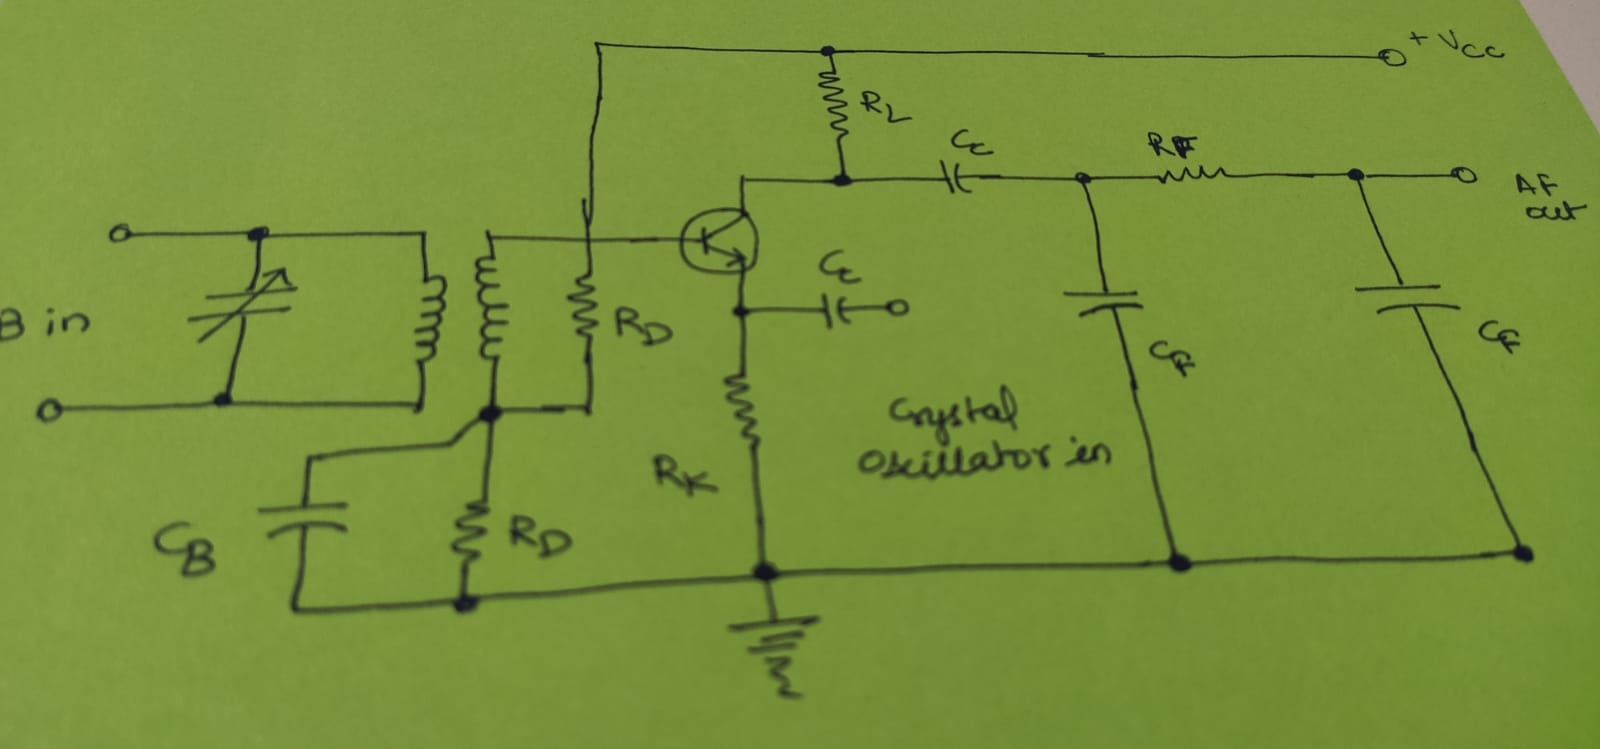capacitor.unpolarized: (191, 272, 299, 343), (1358, 274, 1458, 318), (257, 500, 352, 539), (1064, 284, 1138, 319), (813, 288, 860, 341), (936, 159, 965, 192)
gnd: (724, 613, 826, 698)
junction: (740, 555, 797, 597), (444, 584, 491, 620), (1158, 543, 1207, 577), (202, 382, 247, 417), (470, 397, 514, 431), (240, 219, 279, 252), (823, 166, 861, 194), (1065, 166, 1107, 191), (1506, 538, 1538, 568), (1338, 161, 1371, 189), (727, 298, 758, 327), (811, 40, 848, 61), (283, 595, 311, 620), (405, 390, 430, 416), (300, 449, 324, 472), (434, 435, 458, 458), (576, 396, 599, 419), (481, 226, 501, 247), (588, 37, 607, 54), (578, 233, 598, 249), (413, 226, 432, 242), (734, 171, 752, 187)
resistor: (447, 490, 494, 565), (721, 365, 762, 449), (565, 263, 601, 346), (816, 63, 853, 138), (1152, 163, 1240, 188)
terminal: (30, 393, 85, 427), (102, 219, 150, 249), (871, 293, 915, 323), (1373, 45, 1406, 73), (1447, 161, 1480, 189)
text: (851, 381, 1116, 478), (1, 298, 100, 348), (152, 519, 215, 579), (1514, 169, 1577, 224), (508, 511, 576, 561), (651, 450, 719, 499), (611, 305, 676, 346), (1435, 27, 1504, 60), (1149, 337, 1197, 377), (858, 87, 908, 123), (1476, 319, 1523, 356), (1147, 130, 1199, 160), (820, 247, 859, 284), (948, 124, 993, 155)
transformer: (410, 250, 507, 368)
transistor: (677, 205, 761, 276)
